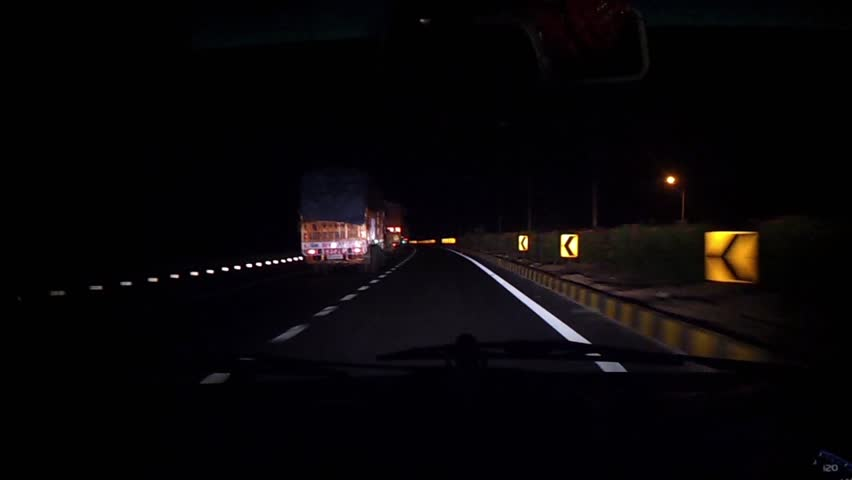left turn: (705, 231, 757, 285), (560, 234, 578, 258), (517, 235, 529, 251)
truck: (301, 197, 384, 274)
